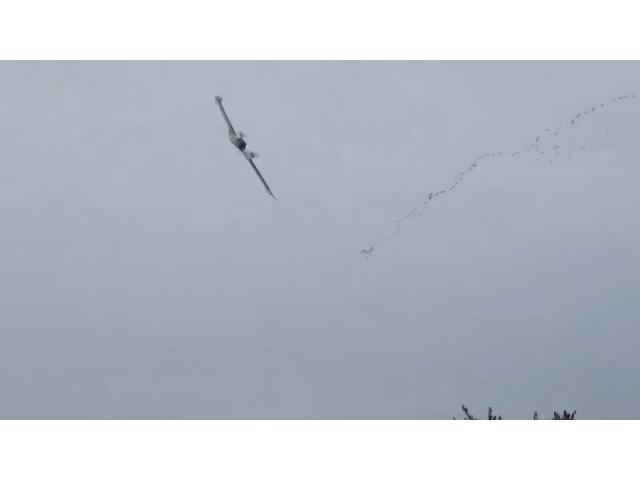Anti-Drone: (214, 97, 276, 197)
